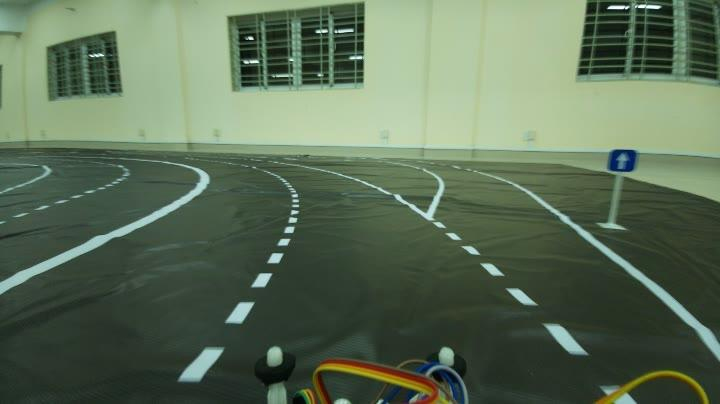onewayroad: (604, 140, 640, 183)
